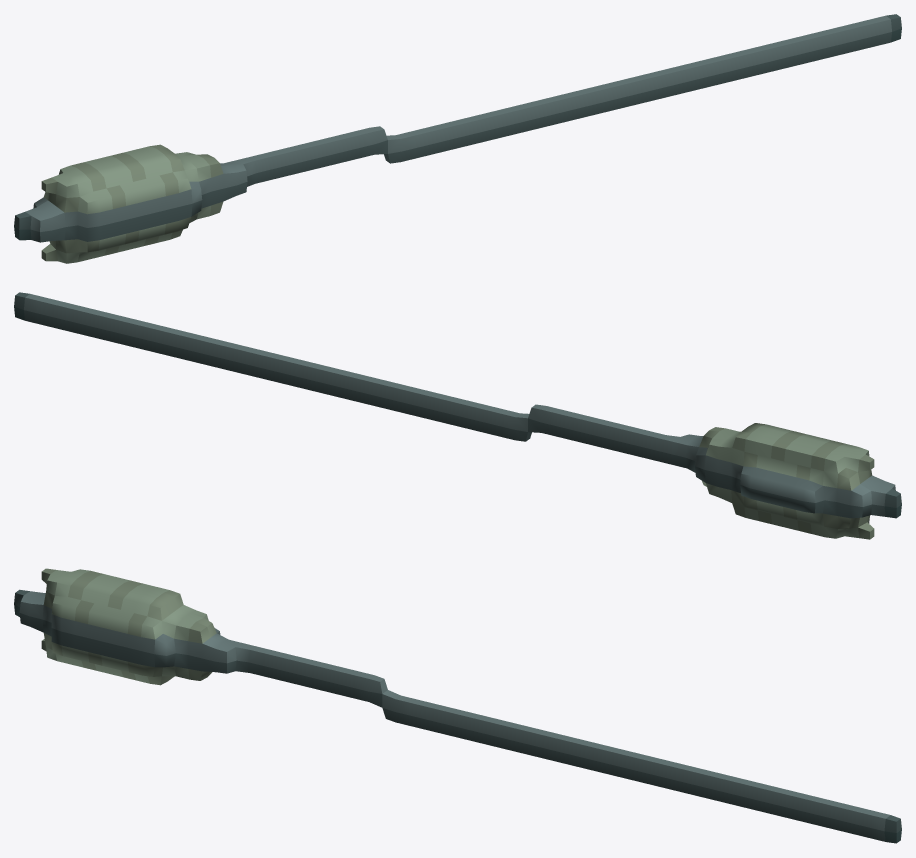
File: Fight_716_2_13.obj
3 renders of one model, top to bottom at view 1: azimuth 30°, elevation 25°; view 2: azimuth 150°, elevation 25°; view 3: azimuth 330°, elevation 25°, orthographic.
Bounding box in the file's own units: 6.67 × 0.6 × 0.5.
